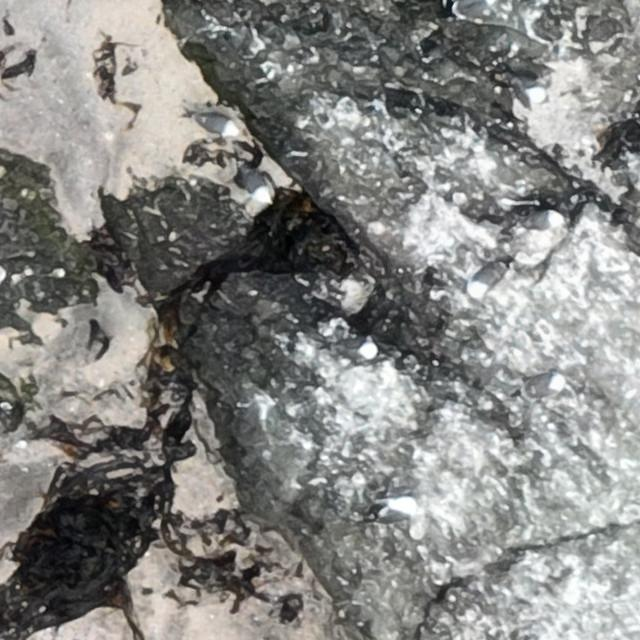umineko: (368, 491, 419, 529), (469, 261, 508, 298), (240, 161, 272, 206), (333, 336, 382, 362), (506, 76, 549, 104), (521, 376, 562, 397), (526, 211, 565, 231), (196, 115, 234, 134)
